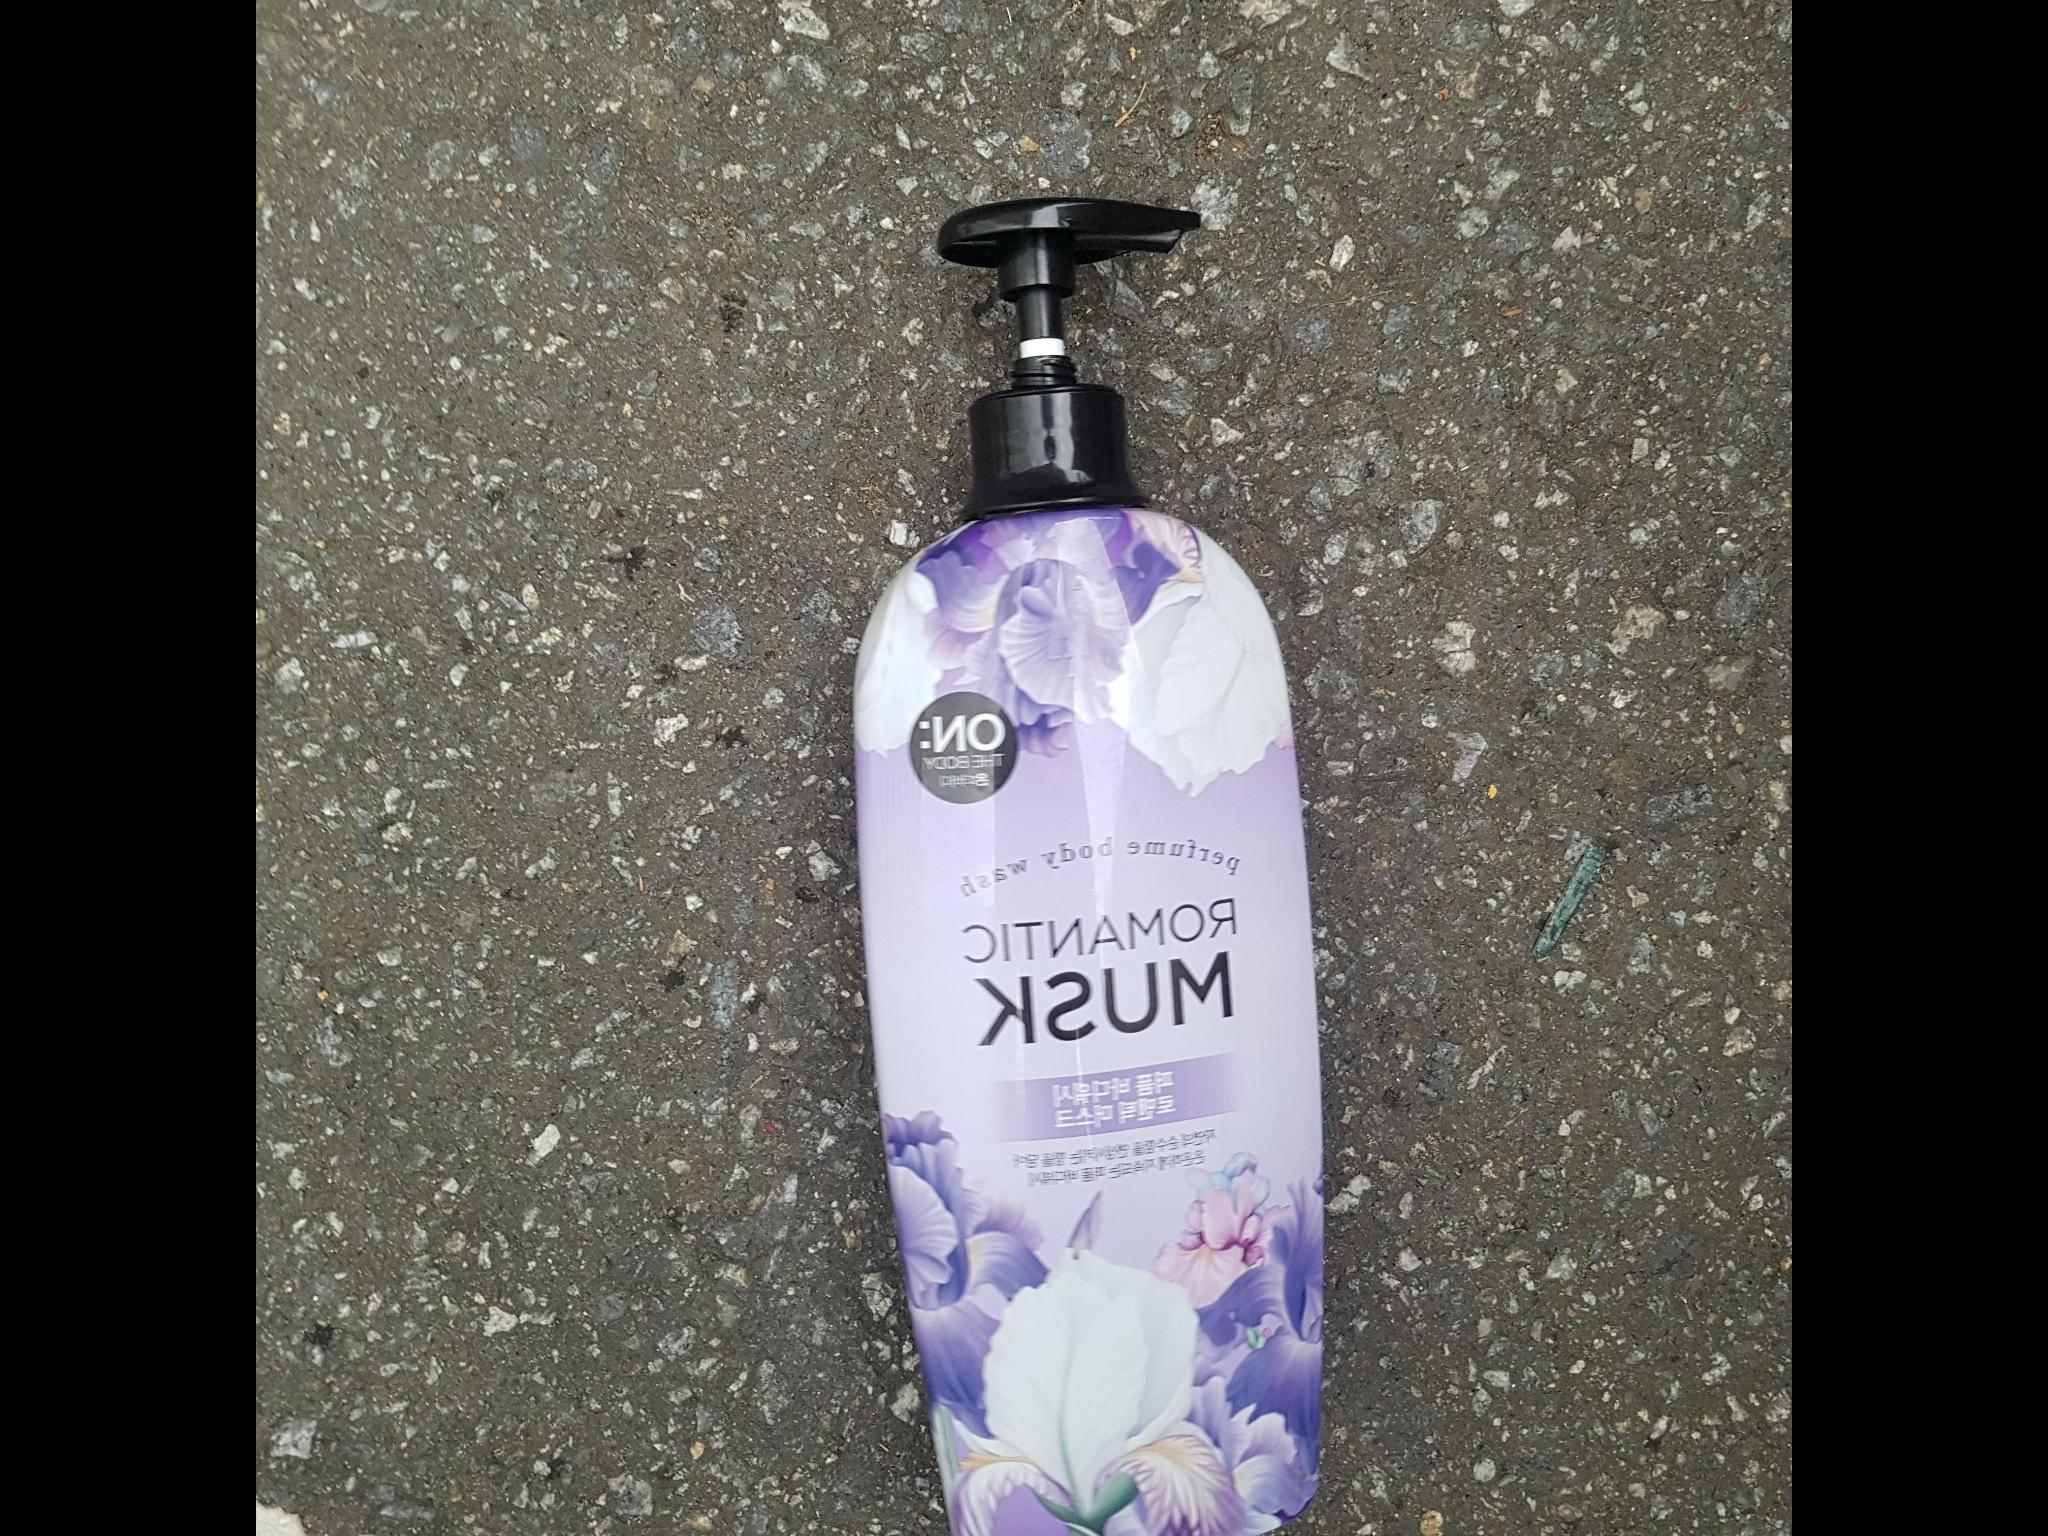bottle: (822, 97, 1288, 1536)
